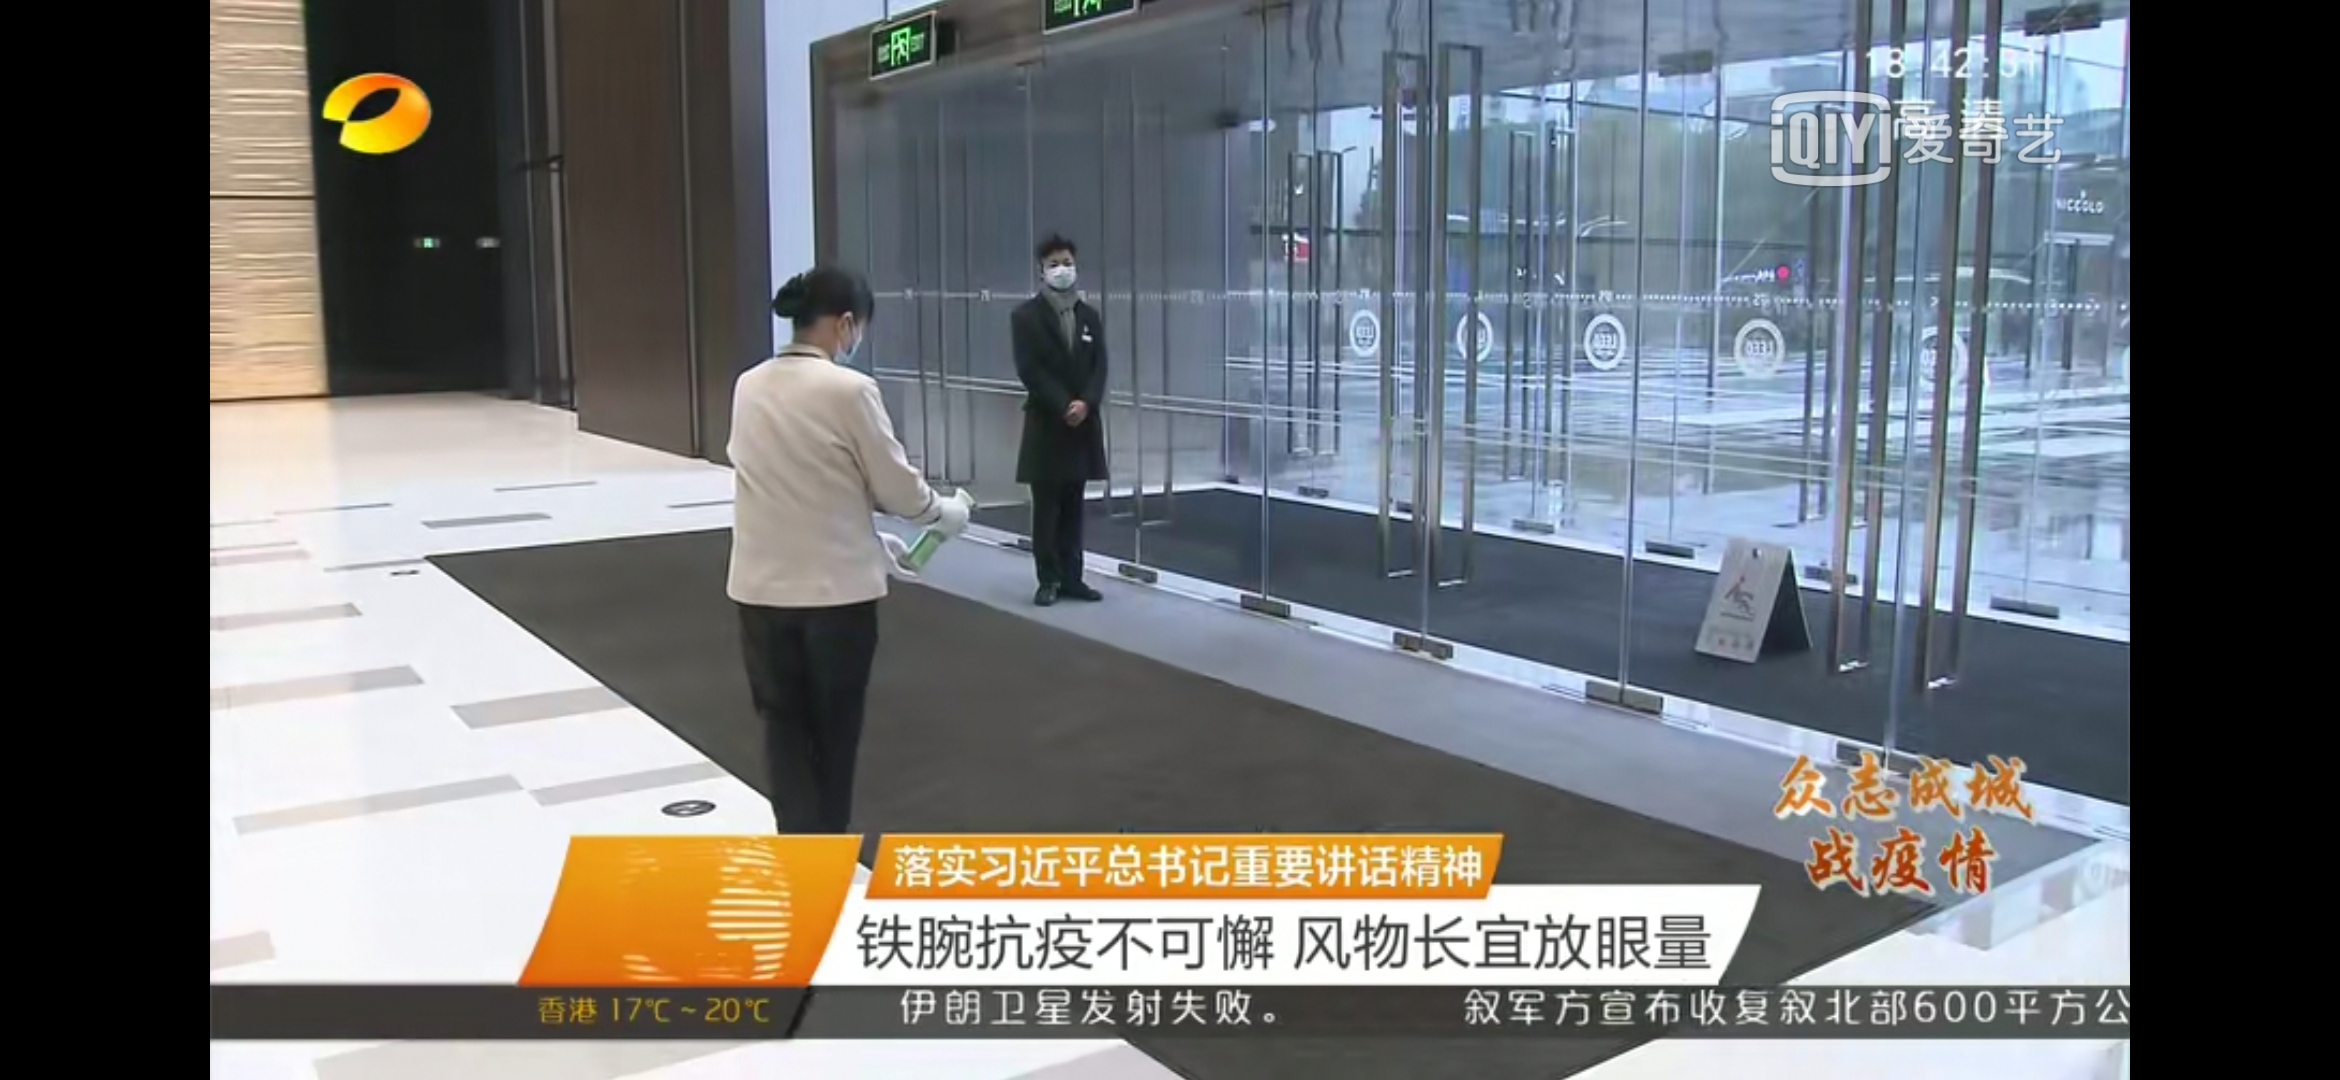correctlyWear: (822, 289, 870, 362), (1036, 254, 1080, 301)
